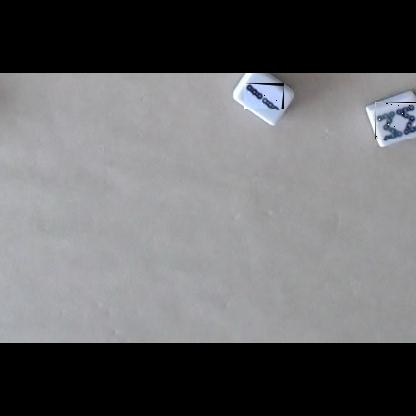2s: (244, 83, 284, 109)
8s: (375, 102, 416, 139)
